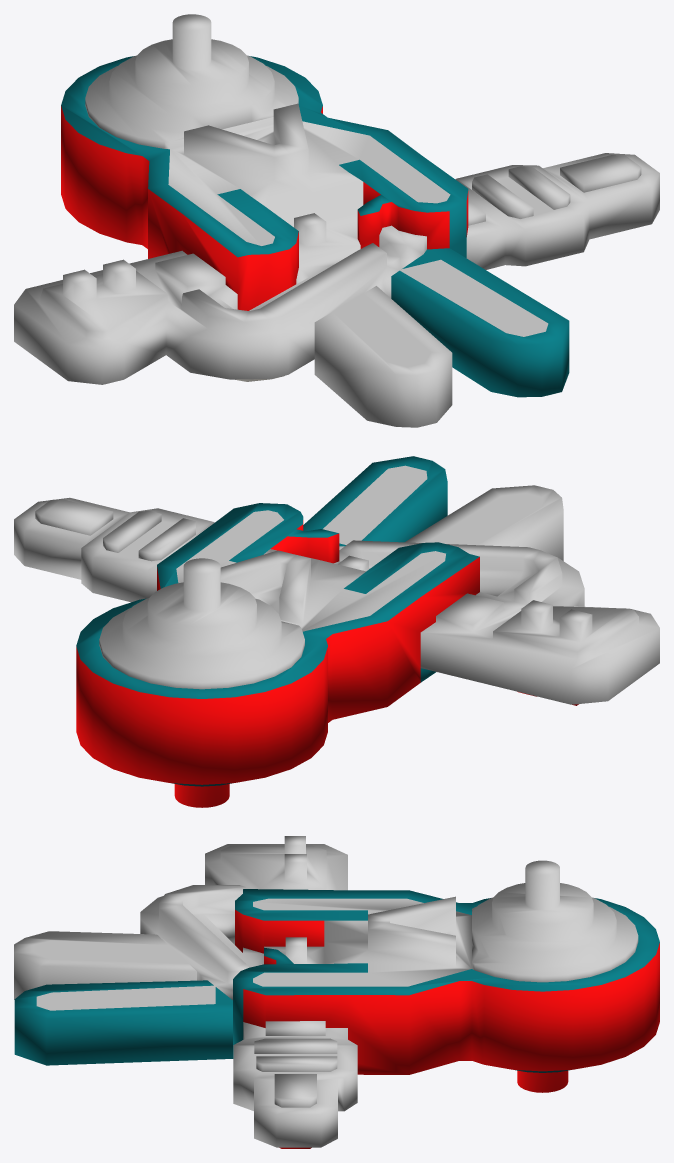
Rendered from flaticon.gltf.
3 renders of one model, top to bottom at view 1: azimuth 30°, elevation 25°; view 2: azimuth 150°, elevation 25°; view 3: azimuth 270°, elevation 25°, orthographic. The views are drawn at different scales.
Visible parts, largest first — view 1: root; view 2: root; view 3: root.
Part boxes in pixels (x1,y1,x2,y2): root: [14, 14, 659, 427]; root: [14, 456, 659, 807]; root: [14, 836, 659, 1148].
Bounding box in the file's own units: 5 × 1.84 × 5.04.
